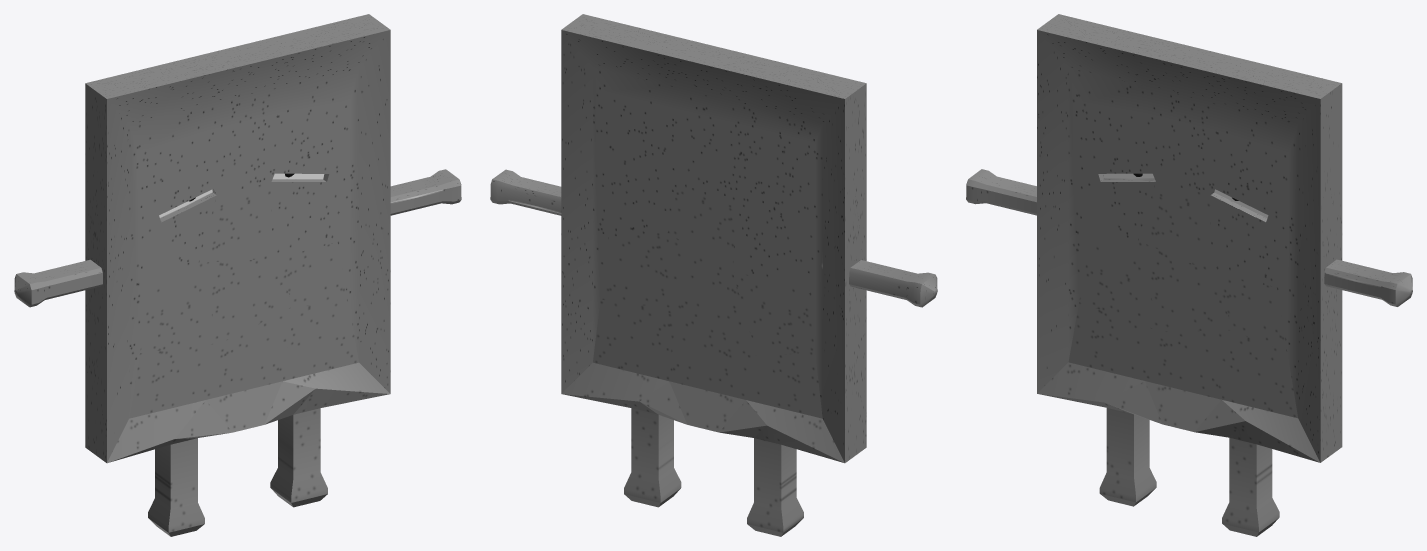
The model's file is nurikabe.obj.
3 renders of one model, left to right at view 1: azimuth 30°, elevation 25°; view 2: azimuth 150°, elevation 25°; view 3: azimuth 330°, elevation 25°, orthographic.
Parts seen in each view (by area): view 1: ICO球.001, 立方体.005, 立方体.004, 立方体.003, 立方体.002, 立方体.007, 立方体.001, 立方体.011, 立方体.012, 立方体.006, 立方体.013, 立方体.014 (+3 smaller); view 2: ICO球.001, 立方体.001, 立方体.005, 立方体.002, 立方体.004, 立方体.006, 立方体.011, 立方体.012, 立方体.007, 立方体.003, 立方体.013, 立方体.014 (+3 smaller); view 3: ICO球.001, 立方体.005, 立方体.004, 立方体.003, 立方体.002, 立方体.007, 立方体.001, 立方体.011, 立方体.012, 立方体.006, 立方体.013, 立方体.014 (+3 smaller).
Boxes of the visible parts, bbox=[...] form: ICO球.001: bbox=[14, 14, 461, 462]; 立方体.005: bbox=[198, 258, 294, 342]; 立方体.004: bbox=[140, 263, 220, 353]; 立方体.003: bbox=[129, 343, 220, 418]; 立方体.002: bbox=[206, 306, 294, 399]; 立方体.007: bbox=[198, 182, 272, 262]; 立方体.001: bbox=[282, 302, 358, 381]; 立方体.011: bbox=[270, 408, 327, 507]; 立方体.012: bbox=[148, 438, 204, 536]; 立方体.006: bbox=[273, 242, 348, 305]; 立方体.013: bbox=[283, 362, 389, 414]; 立方体.014: bbox=[107, 400, 205, 463]; ICO球.001: bbox=[490, 14, 937, 462]; 立方体.001: bbox=[593, 299, 675, 380]; 立方体.005: bbox=[667, 233, 756, 355]; 立方体.002: bbox=[669, 308, 756, 399]; 立方体.004: bbox=[733, 272, 814, 355]; 立方体.006: bbox=[600, 232, 675, 307]; 立方体.011: bbox=[624, 408, 681, 507]; 立方体.012: bbox=[747, 438, 803, 536]; 立方体.007: bbox=[667, 189, 738, 271]; 立方体.003: bbox=[746, 352, 822, 418]; 立方体.013: bbox=[561, 362, 668, 414]; 立方体.014: bbox=[746, 400, 844, 463]; ICO球.001: bbox=[966, 14, 1412, 462]; 立方体.005: bbox=[1138, 241, 1233, 330]; 立方体.004: bbox=[1079, 240, 1159, 330]; 立方体.003: bbox=[1068, 302, 1159, 380]; 立方体.002: bbox=[1145, 330, 1233, 399]; 立方体.007: bbox=[1138, 182, 1211, 272]; 立方体.001: bbox=[1221, 330, 1297, 418]; 立方体.011: bbox=[1222, 438, 1279, 536]; 立方体.012: bbox=[1099, 408, 1156, 506]; 立方体.006: bbox=[1212, 272, 1287, 352]; 立方体.013: bbox=[1222, 400, 1320, 462]; 立方体.014: bbox=[1037, 362, 1144, 413].
Size of the model in its own units: 4.17 by 4.1 by 0.3525.
Materials: 16 (16 with a texture image).
